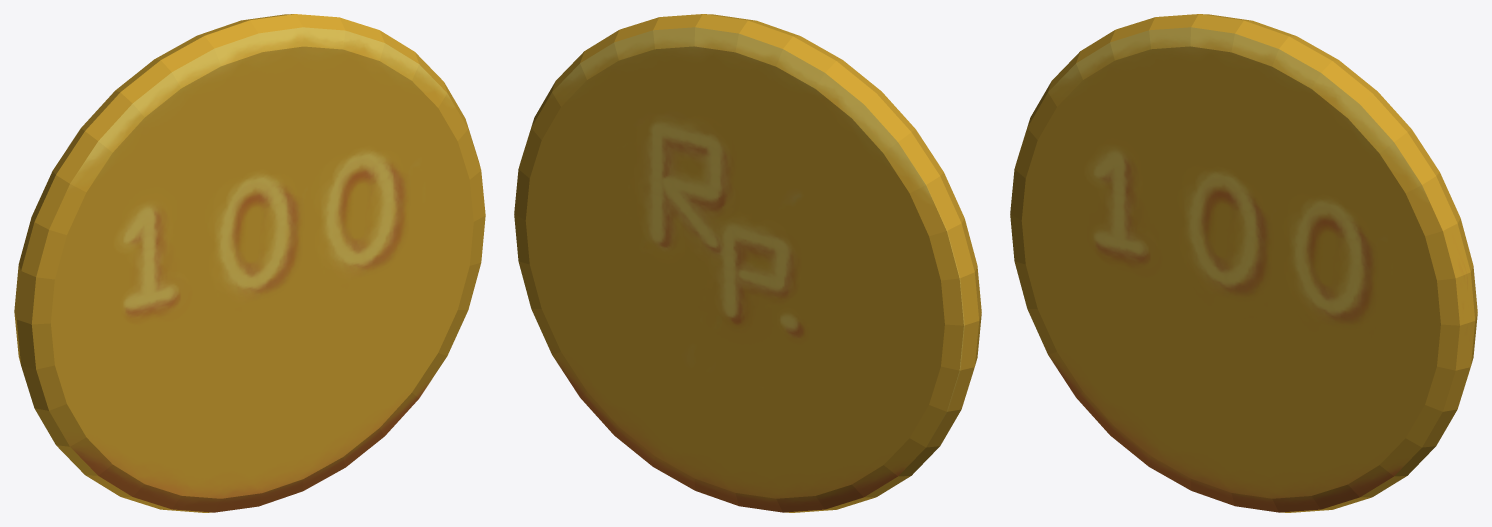
File: Coin_Test.fbx
3 views of the same model, side by side, from view 1: azimuth 30°, elevation 25°; view 2: azimuth 150°, elevation 25°; view 3: azimuth 330°, elevation 25° (orthographic).
Visible parts, largest first — view 1: Coin; view 2: Coin; view 3: Coin.
Part boxes in pixels (bbox=[...]): Coin: bbox=[14, 14, 485, 512]; Coin: bbox=[514, 14, 981, 512]; Coin: bbox=[1010, 14, 1477, 512].
Bounding box in the file's own units: 200 × 200 × 19.87.
